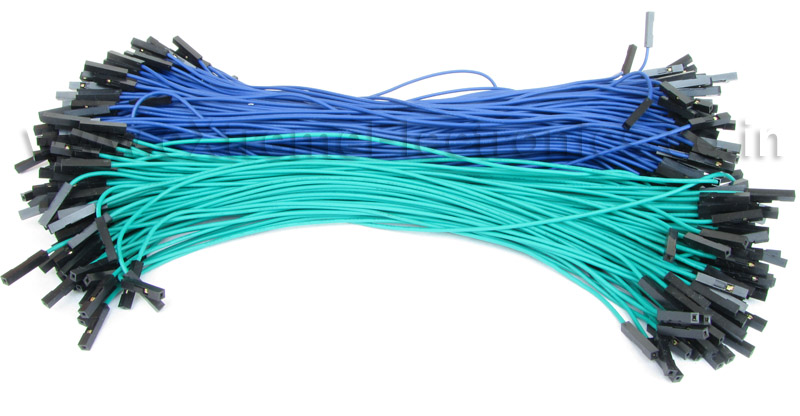Nonrec_Tangler: (1, 7, 780, 390)
